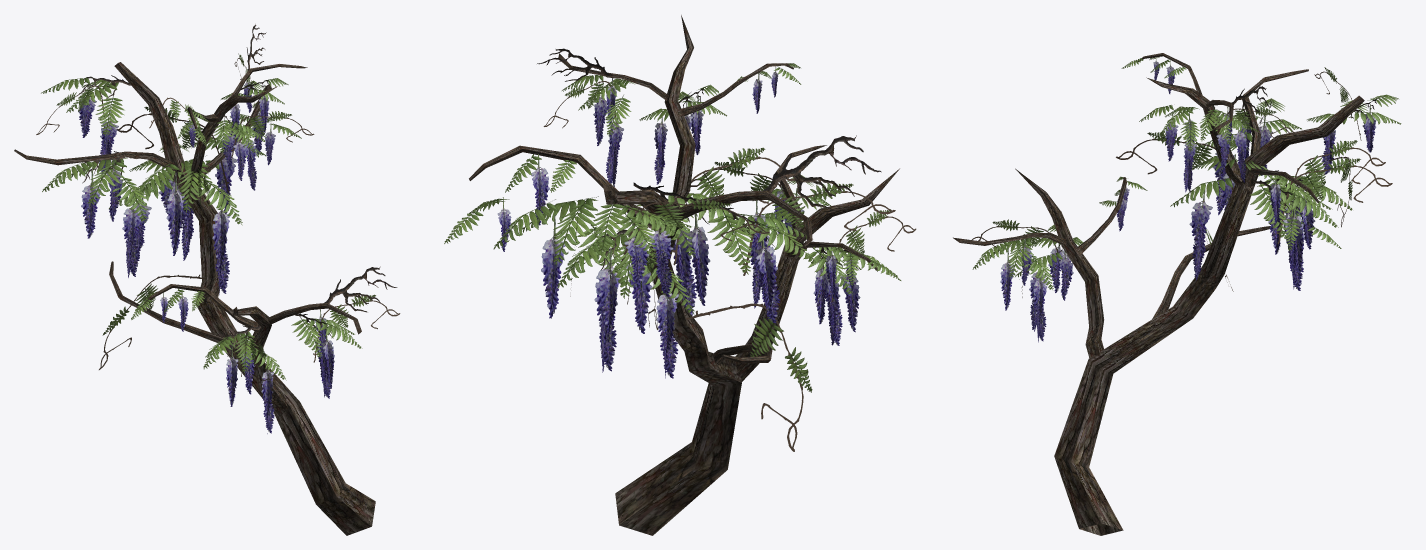
Rendered from Scene_Tree_tengluo_2.FBX.
3 renders of one model, left to right at view 1: azimuth 30°, elevation 25°; view 2: azimuth 150°, elevation 25°; view 3: azimuth 270°, elevation 25°, orthographic. The views are drawn at different scales.
Visible parts, largest first — view 1: Scene_Tree_tengluo_2_b, Scene_Tree_tengluo_2_a; view 2: Scene_Tree_tengluo_2_b, Scene_Tree_tengluo_2_a; view 3: Scene_Tree_tengluo_2_b, Scene_Tree_tengluo_2_a.
Boxes of the visible parts, <box> form: Scene_Tree_tengluo_2_b: <box>36,24,400,433</box>; Scene_Tree_tengluo_2_a: <box>14,62,375,535</box>; Scene_Tree_tengluo_2_b: <box>444,48,916,451</box>; Scene_Tree_tengluo_2_a: <box>469,15,899,535</box>; Scene_Tree_tengluo_2_b: <box>972,57,1401,342</box>; Scene_Tree_tengluo_2_a: <box>953,53,1364,535</box>.
Bounding box in the file's own units: 569 × 833 × 768.
